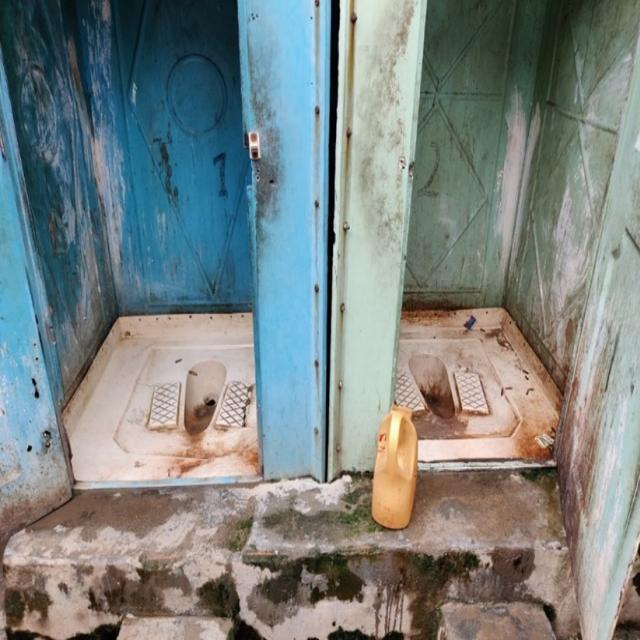dirt-floor: (40, 472, 569, 579)
dirty: (379, 34, 613, 303), (10, 21, 119, 358)
urine_stain: (168, 354, 246, 441), (419, 362, 482, 430)
